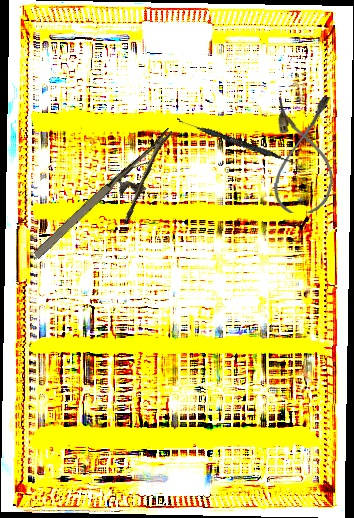Cannula: (273, 96, 335, 214)
Needle Holder: (29, 127, 198, 283)
Spatula Surgical: (175, 117, 297, 166)
